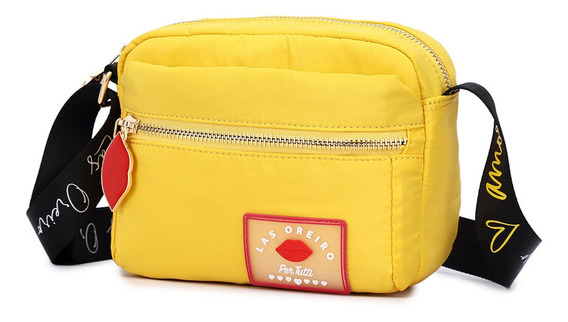cartera: (25, 16, 543, 298)
